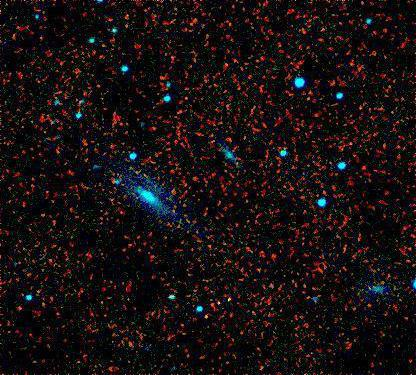star: (220, 150, 250, 180)
